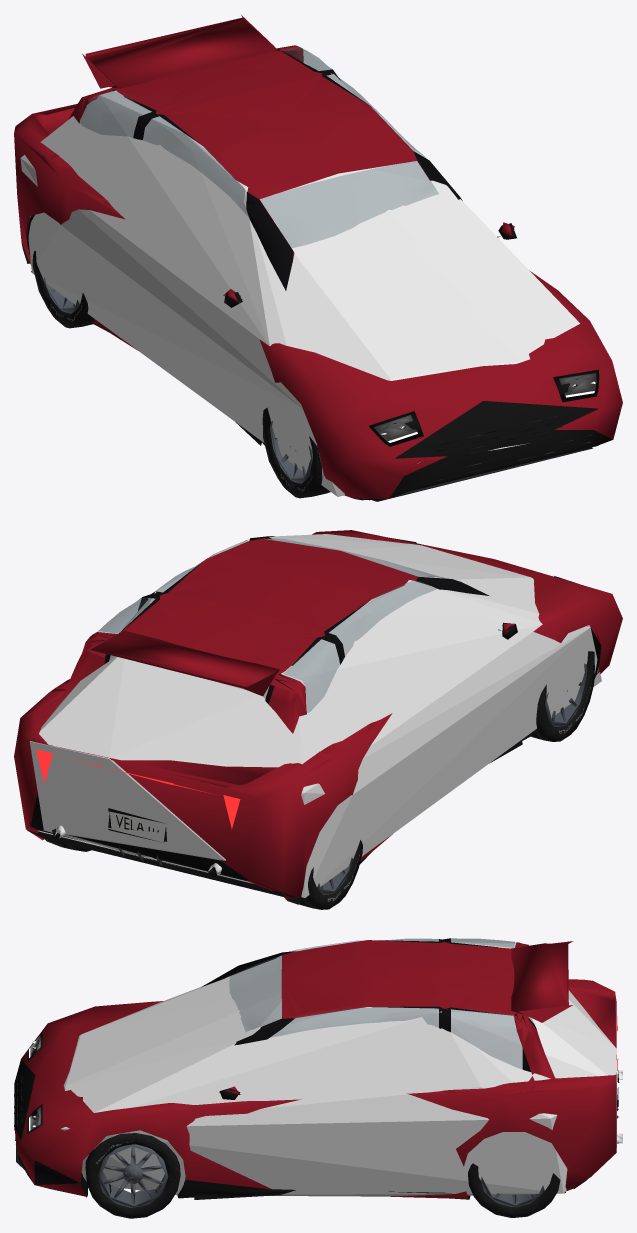
File: noctra_vela_lod2.glb
3 renders of one model, top to bottom at view 1: azimuth 30°, elevation 25°; view 2: azimuth 150°, elevation 25°; view 3: azimuth 270°, elevation 25°, orthographic. The views are drawn at different scales.
Parts seen in each view (by area): view 1: col_body, body, glass, trim, wheel_FR, lights_front, wheel_RR, underbody; view 2: col_body, body, glass, trim, wheel_FR, underbody, wheel_RR, lights_rear, plate_rear; view 3: col_body, body, glass, wheel_FL, trim, wheel_RL, lights_front.
Boxes of the visible parts, bbox=[...] form: col_body: bbox=[20, 70, 579, 496]; body: bbox=[14, 45, 622, 500]; glass: bbox=[79, 47, 438, 247]; trim: bbox=[82, 15, 592, 501]; wheel_FR: bbox=[262, 407, 330, 498]; lights_front: bbox=[369, 369, 599, 446]; wheel_RR: bbox=[32, 251, 93, 328]; underbody: bbox=[21, 215, 598, 500]; col_body: bbox=[29, 534, 601, 897]; body: bbox=[14, 530, 622, 899]; glass: bbox=[97, 538, 446, 714]; trim: bbox=[86, 622, 522, 865]; wheel_FR: bbox=[529, 651, 594, 741]; underbody: bbox=[27, 626, 601, 898]; wheel_RR: bbox=[284, 840, 362, 909]; lights_rear: bbox=[36, 749, 240, 829]; plate_rear: bbox=[108, 808, 166, 841]; col_body: bbox=[61, 942, 616, 1196]; body: bbox=[14, 940, 616, 1198]; glass: bbox=[229, 938, 534, 1071]; wheel_FL: bbox=[85, 1133, 180, 1218]; trim: bbox=[14, 941, 618, 1199]; wheel_RL: bbox=[468, 1163, 560, 1217]; lights_front: bbox=[27, 1033, 42, 1133].
Bounding box in the file's own units: 1.85 × 1.44 × 4.07.
Materials: 13 (3 with a texture image).
